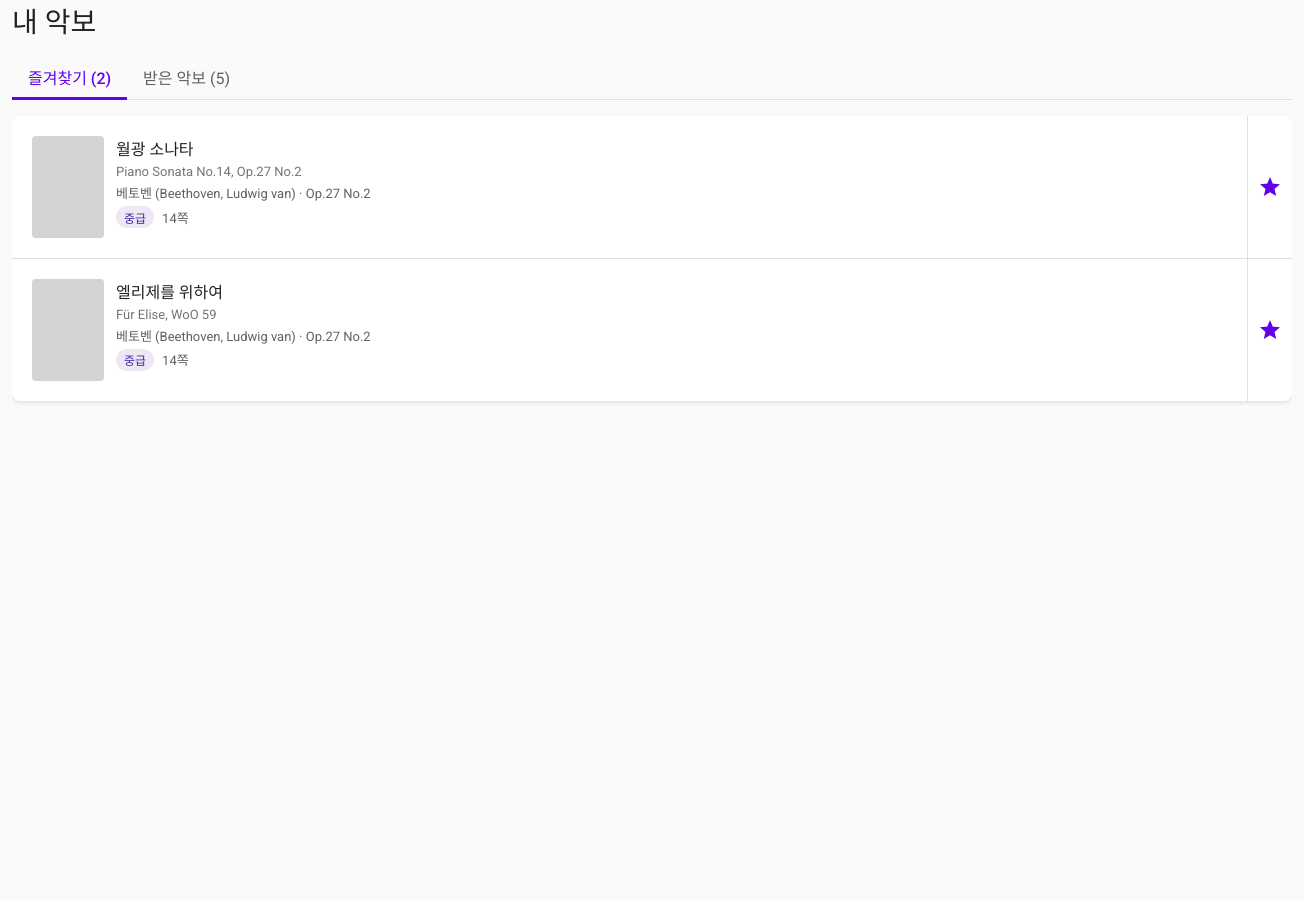
Test: 즐겨찾기 탭 — 목록과 해제 (8-C 3·4) › '즐겨찾기 해제' 를 누르면 즉시 목록에서 빠지고 서버에도 바로 반영된다 (09 §6 S6)
The image size is (1304, 900).
Click the button named "즐겨찾기 해제" in the row of "Piano Sonata No.14, Op.27 No.2": (1270, 187) top-left (1248, 165), bottom-right (1292, 209)
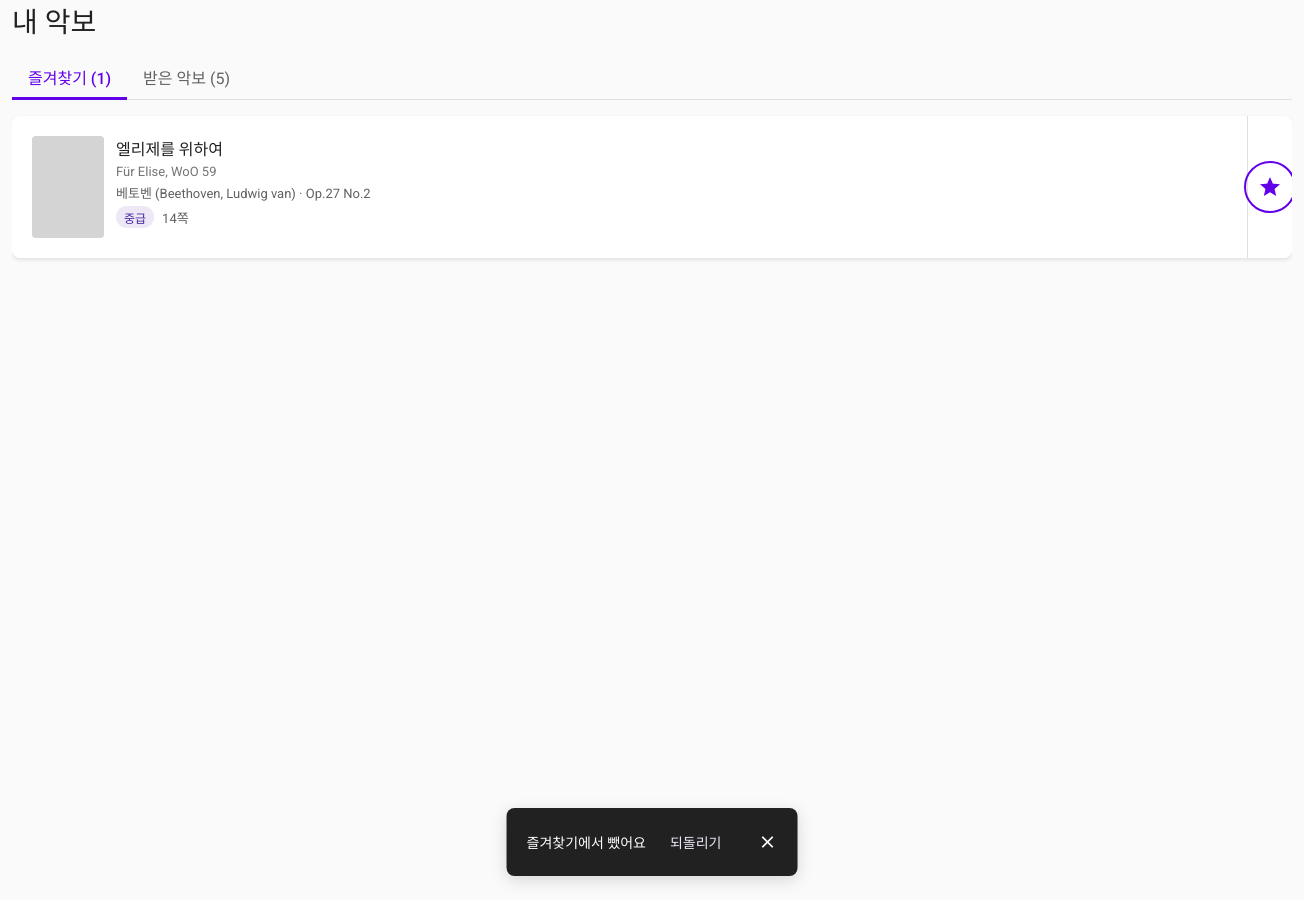
Check: the text "월광 소나타" is gone
Check: the text "즐겨찾기 (1)" is shown, box top-left (12, 56), bottom-right (127, 100)
